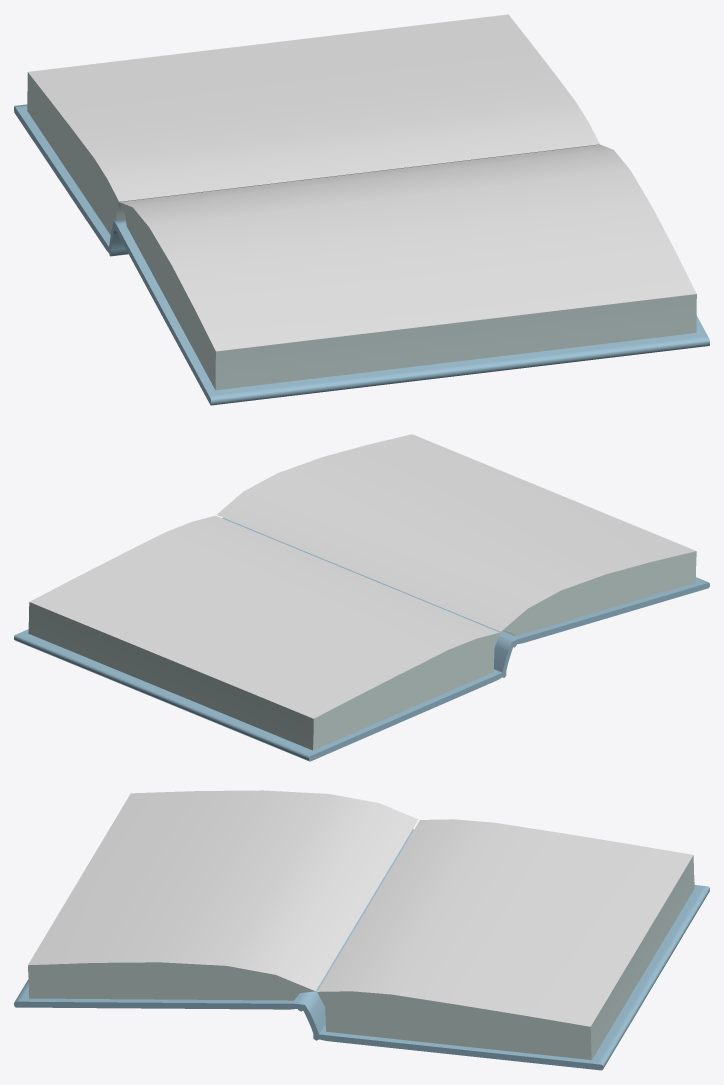
File: Book.fbx
The picture shows the model from 3 angles, top to bottom: view 1: azimuth 30°, elevation 25°; view 2: azimuth 150°, elevation 25°; view 3: azimuth 270°, elevation 25°; orthographic projection. The views are drawn at different scales.
Visible parts, largest first — view 1: book_a_open.004; view 2: book_a_open.004; view 3: book_a_open.004.
Part boxes in pixels (<box>): book_a_open.004: <box>14,14,709,405</box>; book_a_open.004: <box>14,434,709,761</box>; book_a_open.004: <box>14,790,709,1070</box>.
Size of the model in its own units: 85.87 by 10.27 by 105.
